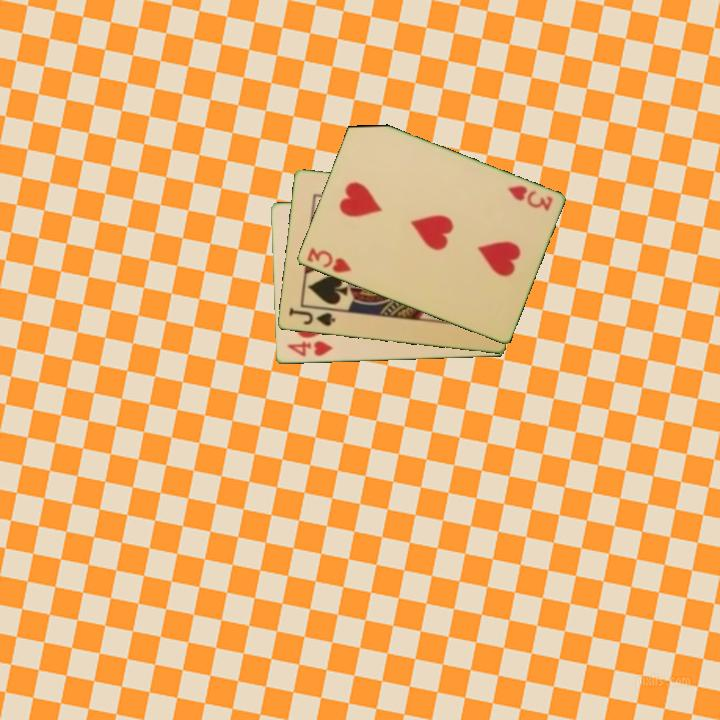3h: (303, 244, 354, 276), (504, 182, 555, 214)
4h: (283, 338, 335, 360)
Js: (285, 304, 338, 329)
